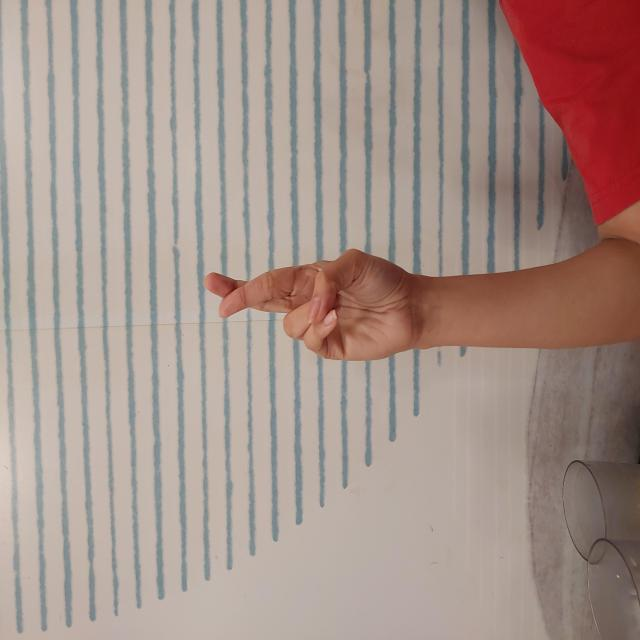R: (277, 200, 395, 420)
